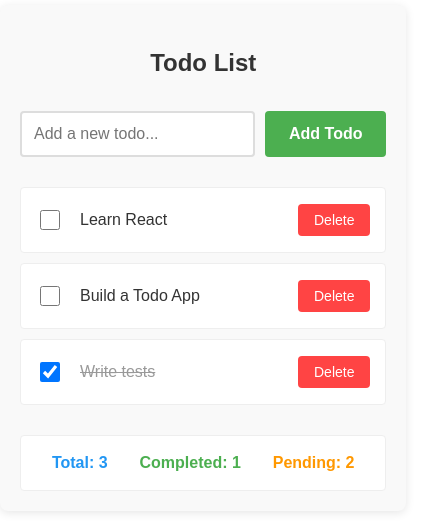
Test case: TodoList Component › deletes a todo when delete button is clicked
Click the button with test id "delete-button-1" at (334, 220), box [298,204,370,236]
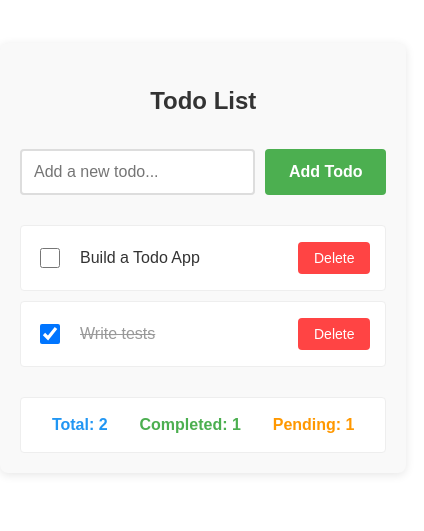
Now the text "Learn React" is gone
Now the text "Total: 2" is shown, box [52,413,108,437]
Now the text "Pending: 1" is shown, box [273,413,354,437]
